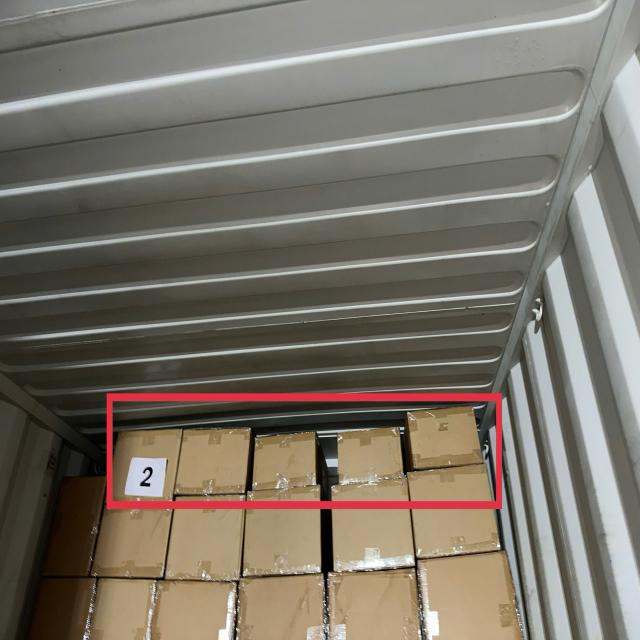Carton: (422, 553, 528, 640), (409, 469, 497, 563), (100, 488, 172, 582), (168, 496, 243, 584), (327, 568, 420, 638), (244, 501, 322, 579), (331, 500, 414, 572), (238, 575, 326, 640), (48, 476, 102, 577), (174, 424, 247, 495), (152, 582, 234, 640), (254, 434, 322, 494), (32, 578, 96, 640), (96, 577, 156, 638), (408, 467, 495, 502)
